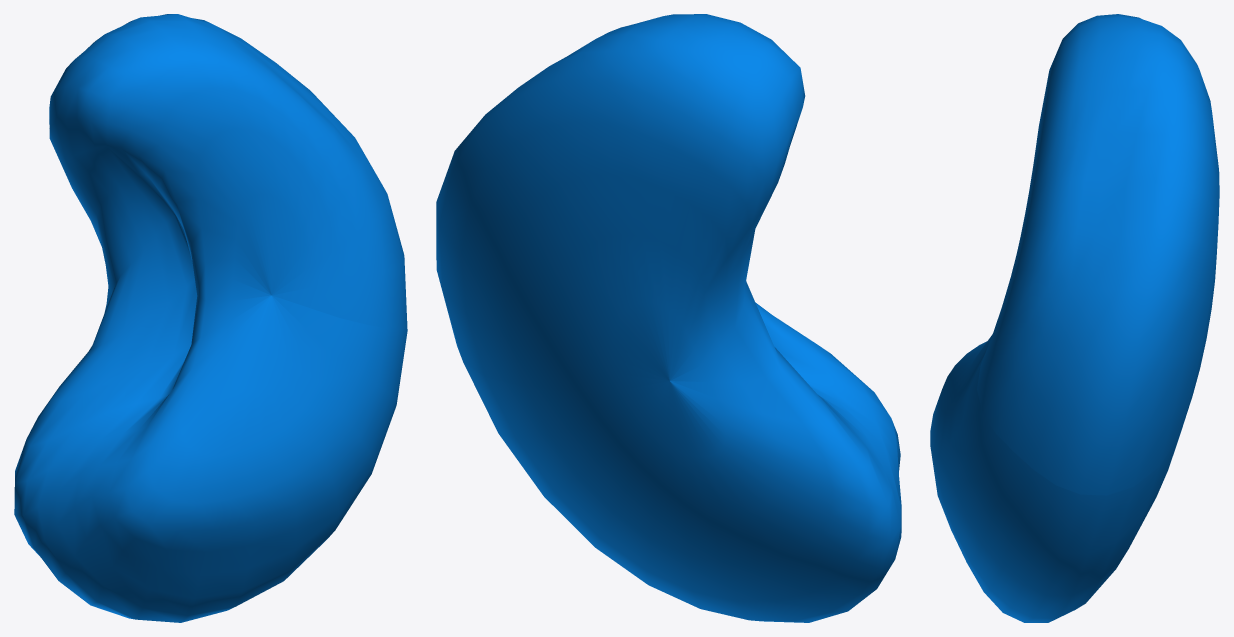
File: blob-right-hand-grip.glb
3 renders of one model, left to right at view 1: azimuth 30°, elevation 25°; view 2: azimuth 150°, elevation 25°; view 3: azimuth 270°, elevation 25°, orthographic. The views are drawn at different scales.
Visible parts, largest first — view 1: Sphere.001; view 2: Sphere.001; view 3: Sphere.001.
Boxes of the visible parts, x1,y1,x2,y2 form: Sphere.001: (14,14,407,622); Sphere.001: (436,14,901,622); Sphere.001: (930,14,1219,622).
Size of the model in its own units: 0.6363 by 0.8644 by 0.3947.
